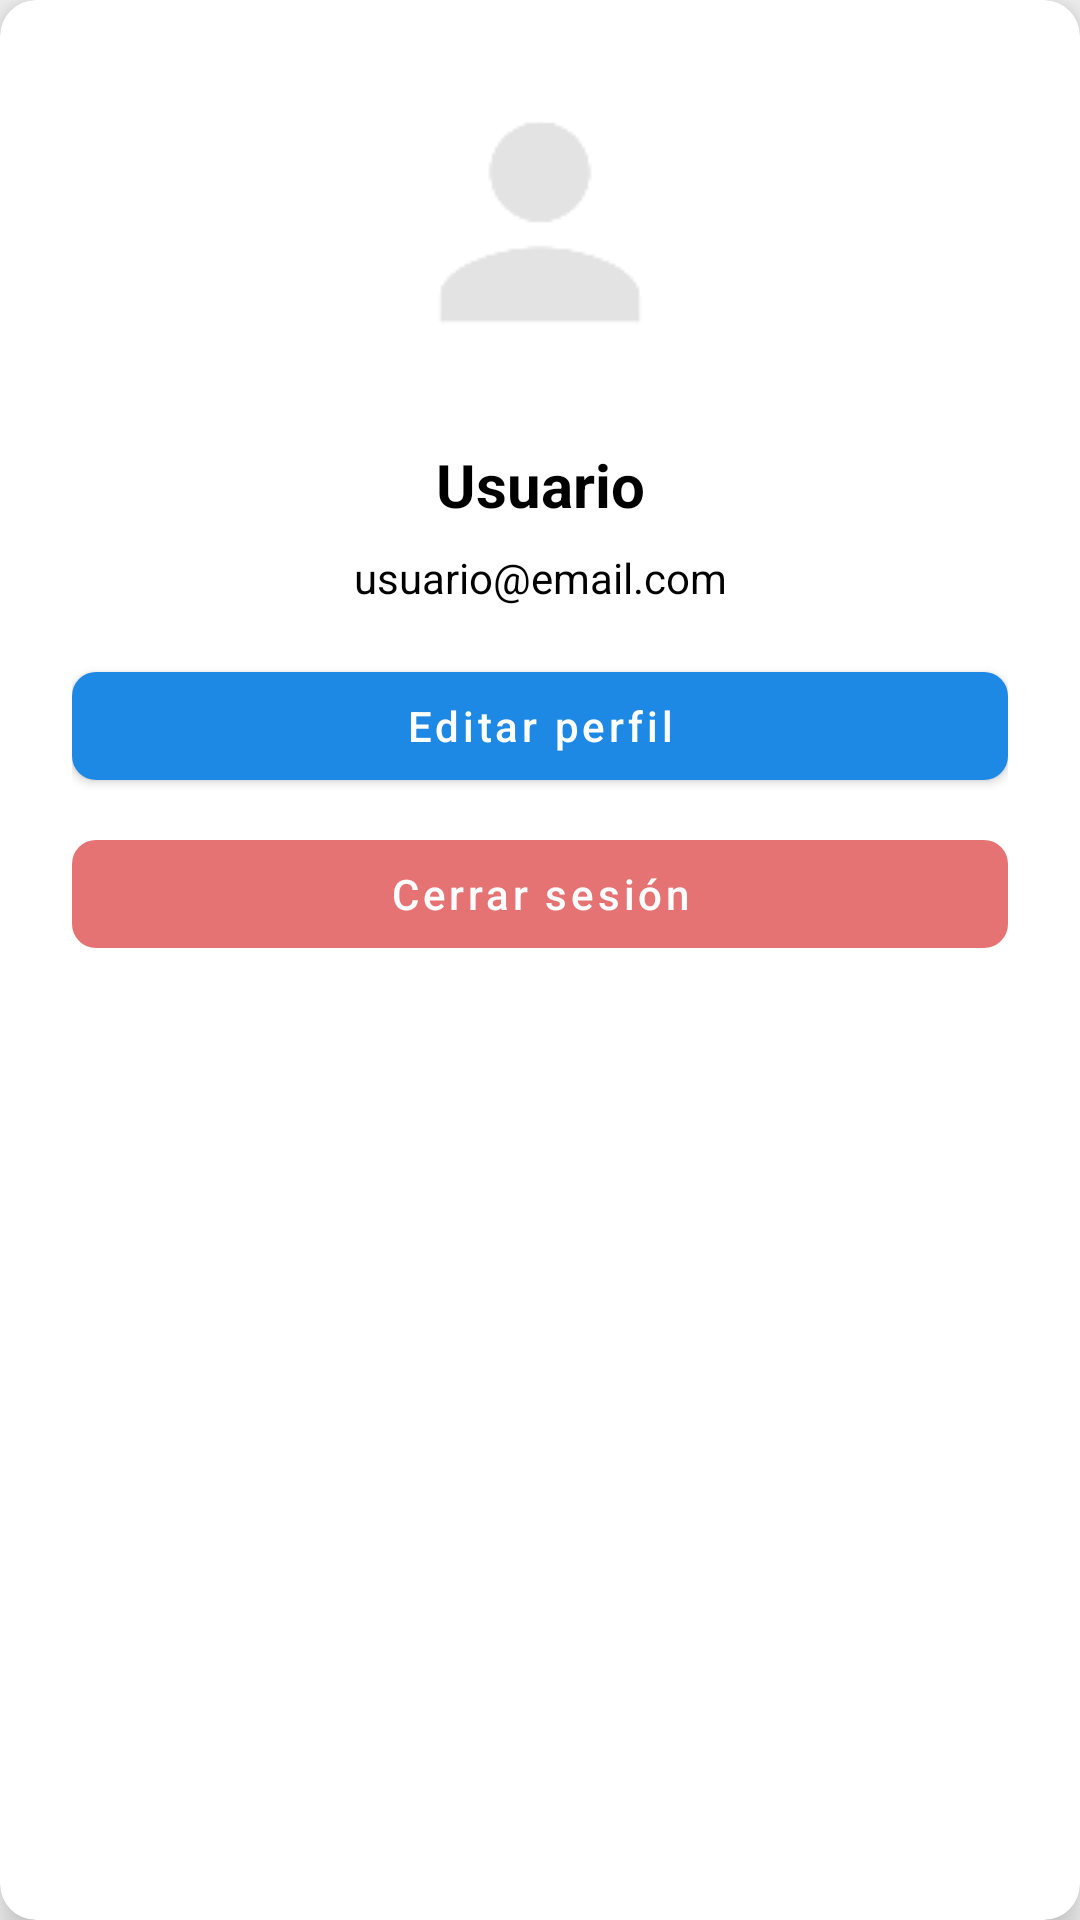

Point at icon controls on the screen. Image size 1080*1920, points as point (x, y).
person: point (540, 222)
